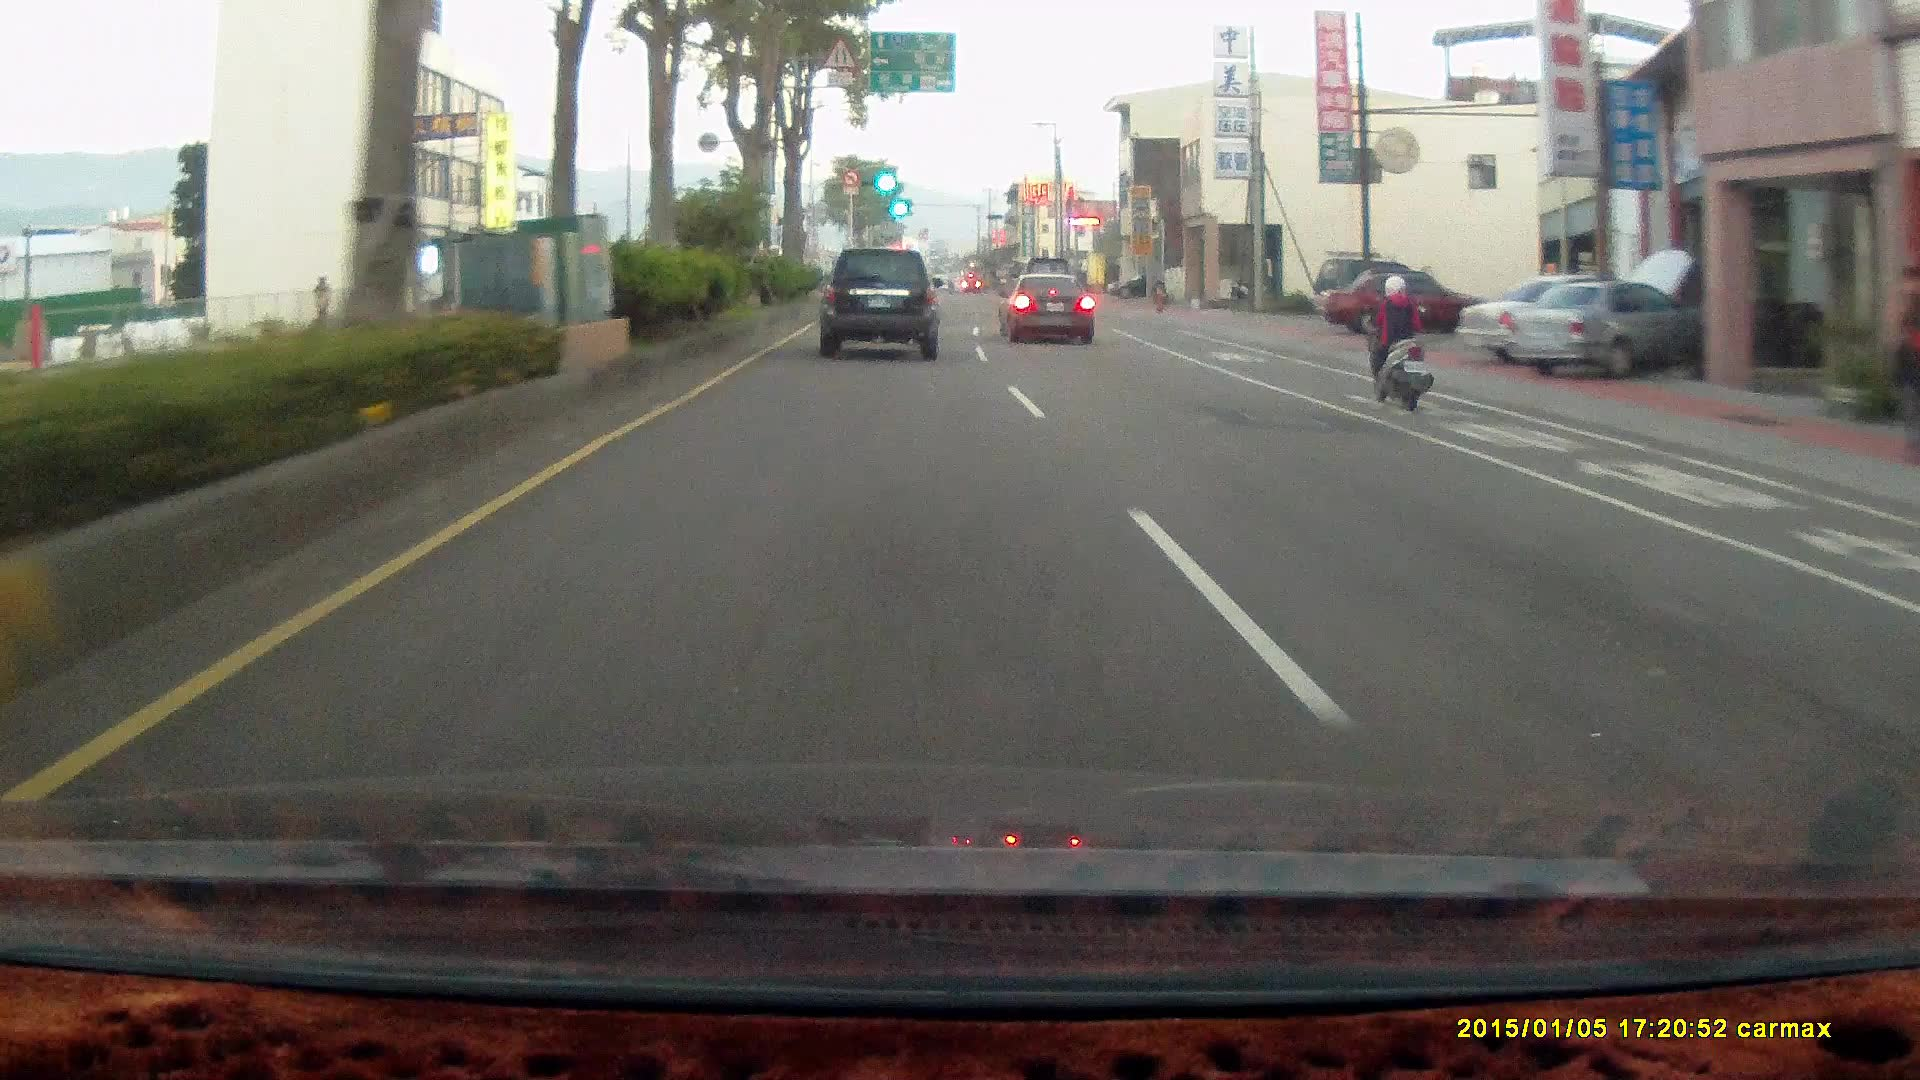rider: (1350, 256, 1441, 424), (1361, 273, 1433, 410)
vehicle: (1504, 281, 1707, 379), (1505, 287, 1701, 383), (817, 252, 946, 370), (818, 246, 943, 357), (1319, 270, 1484, 341), (1323, 270, 1488, 335), (997, 270, 1095, 343), (999, 274, 1098, 346), (1106, 274, 1160, 298)
